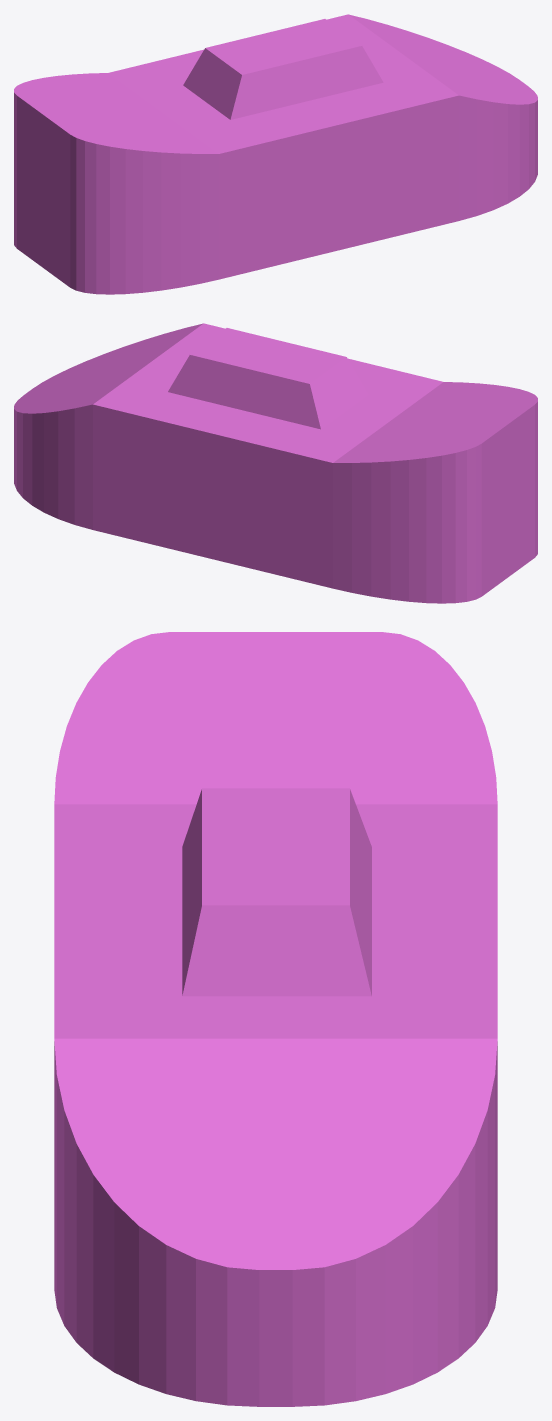
File: body.dae
The picture shows the model from 3 angles, top to bottom: view 1: azimuth 30°, elevation 25°; view 2: azimuth 150°, elevation 25°; view 3: azimuth 270°, elevation 25°; orthographic projection. The views are drawn at different scales.
Visible parts, largest first — view 1: Cube; view 2: Cube; view 3: Cube.
Boxes of the visible parts, box(x1,y1,x2,y2) form: Cube: box(14, 14, 537, 294); Cube: box(14, 323, 537, 603); Cube: box(54, 632, 497, 1406).
Size of the model in its own units: 0.1 by 0.04 by 0.0324.
